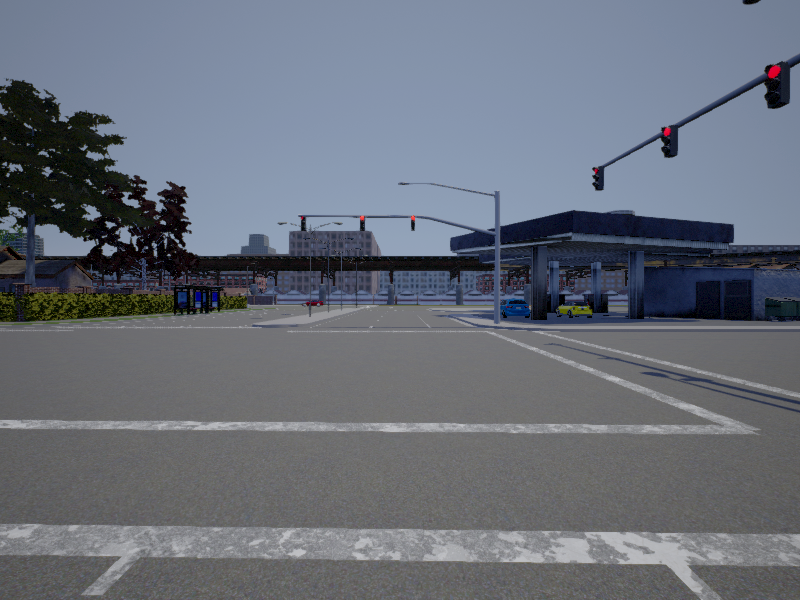Attacker: (301, 298, 324, 308)
